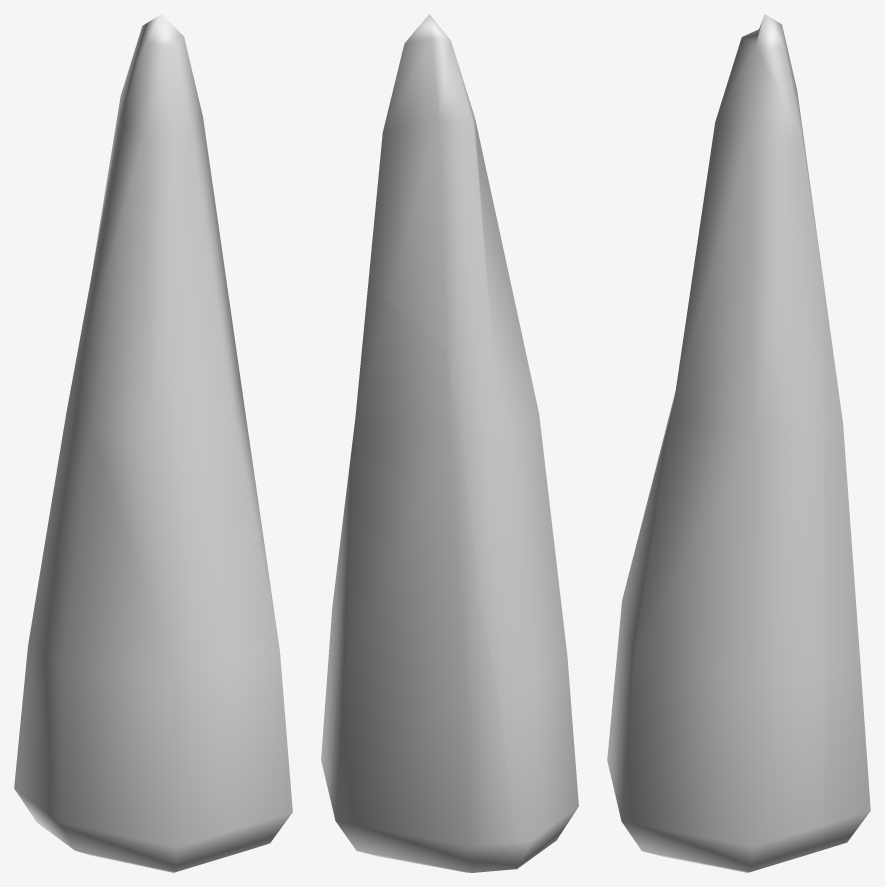
The model's file is Prop_SnowmanNose.glb.
3 renders of one model, left to right at view 1: azimuth 30°, elevation 25°; view 2: azimuth 150°, elevation 25°; view 3: azimuth 270°, elevation 25°, orthographic. The views are drawn at different scales.
Visible parts, largest first — view 1: Prop_SnowmanNose; view 2: Prop_SnowmanNose; view 3: Prop_SnowmanNose.
Boxes of the visible parts, <box> form: Prop_SnowmanNose: <box>14,14,292,872</box>; Prop_SnowmanNose: <box>321,14,578,872</box>; Prop_SnowmanNose: <box>607,14,870,872</box>.
Bounding box in the file's own units: 0.0664 × 0.2212 × 0.063.
Materials: 1 (1 with a texture image).
